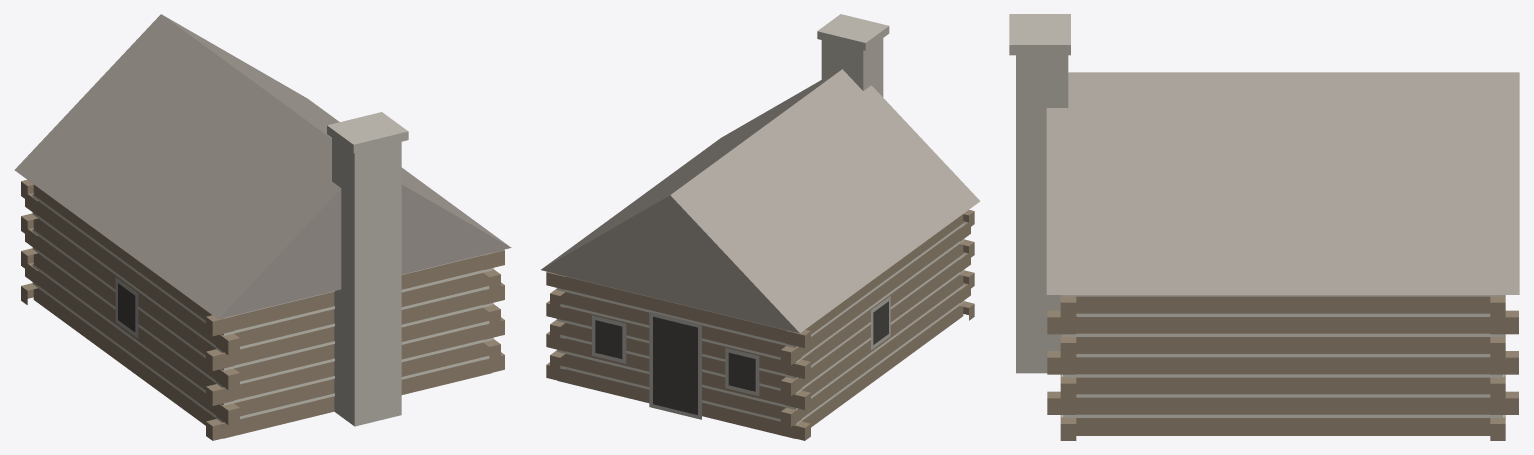
Rendered from recon_1835_west_048__inferred_1835.glb.
3 views of the same model, side by side, from view 1: azimuth 30°, elevation 25°; view 2: azimuth 150°, elevation 25°; view 3: azimuth 270°, elevation 25° (orthographic). The views are drawn at different scales.
Parts seen in each view (by area): view 1: recon_1835_west_048__inferred_1835; view 2: recon_1835_west_048__inferred_1835; view 3: recon_1835_west_048__inferred_1835.
Part boxes in pixels (box(x1,y1,x2,y2)): recon_1835_west_048__inferred_1835: box(14, 14, 511, 440); recon_1835_west_048__inferred_1835: box(541, 14, 980, 440); recon_1835_west_048__inferred_1835: box(1009, 14, 1519, 440).
Size of the model in its own units: 5.99 by 5.62 by 7.78.
